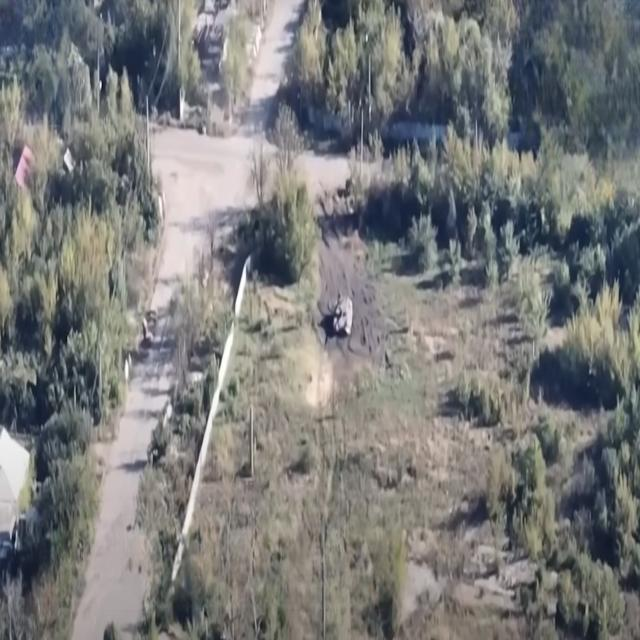MBT: (331, 291, 356, 341)
